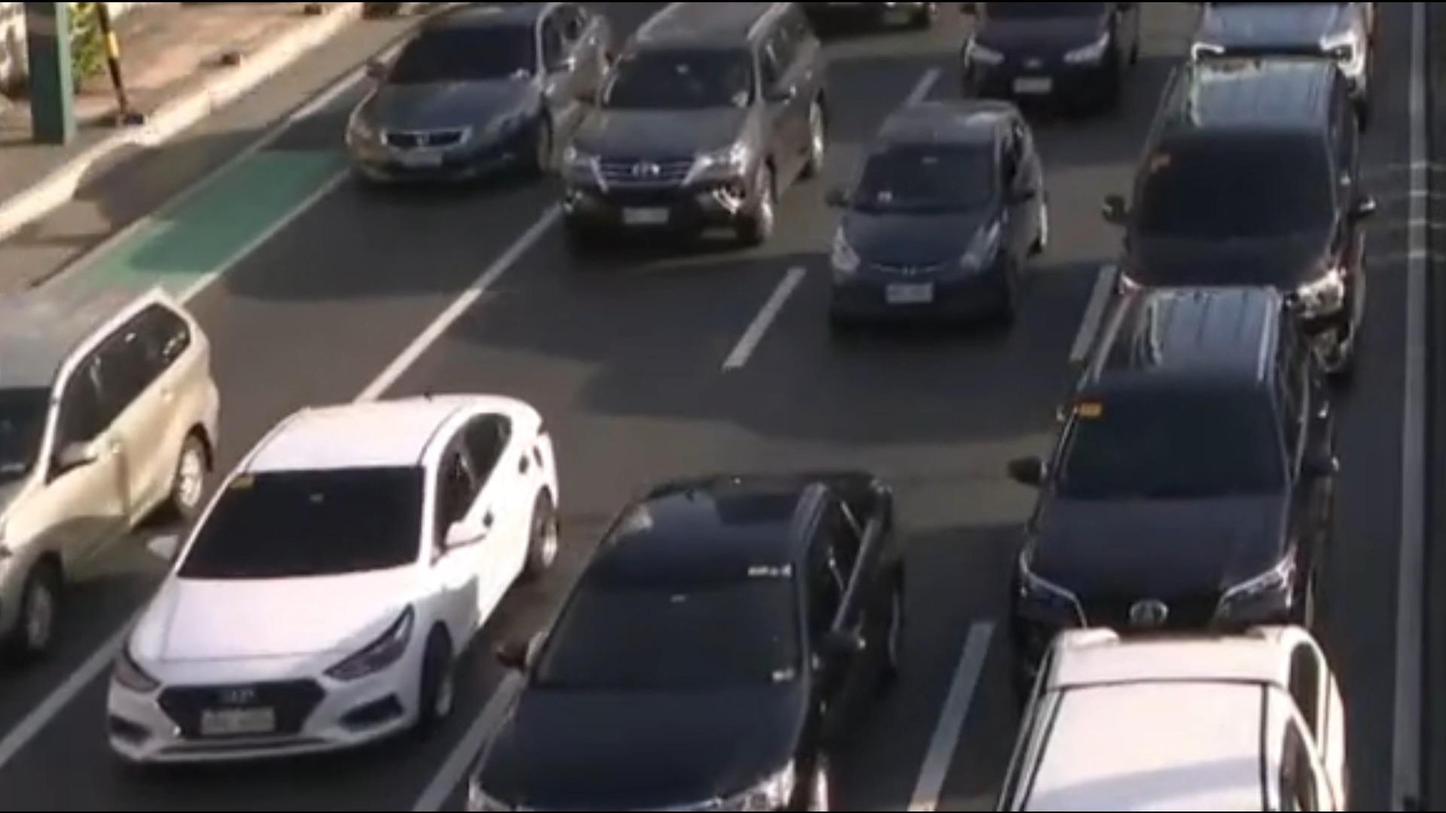SUV: (1005, 311, 1356, 644), (0, 267, 222, 666), (569, 0, 830, 271), (1099, 75, 1384, 288), (819, 98, 1051, 351), (949, 0, 1168, 83)
Sedan: (101, 399, 559, 771), (480, 463, 902, 813), (339, 0, 614, 189)
